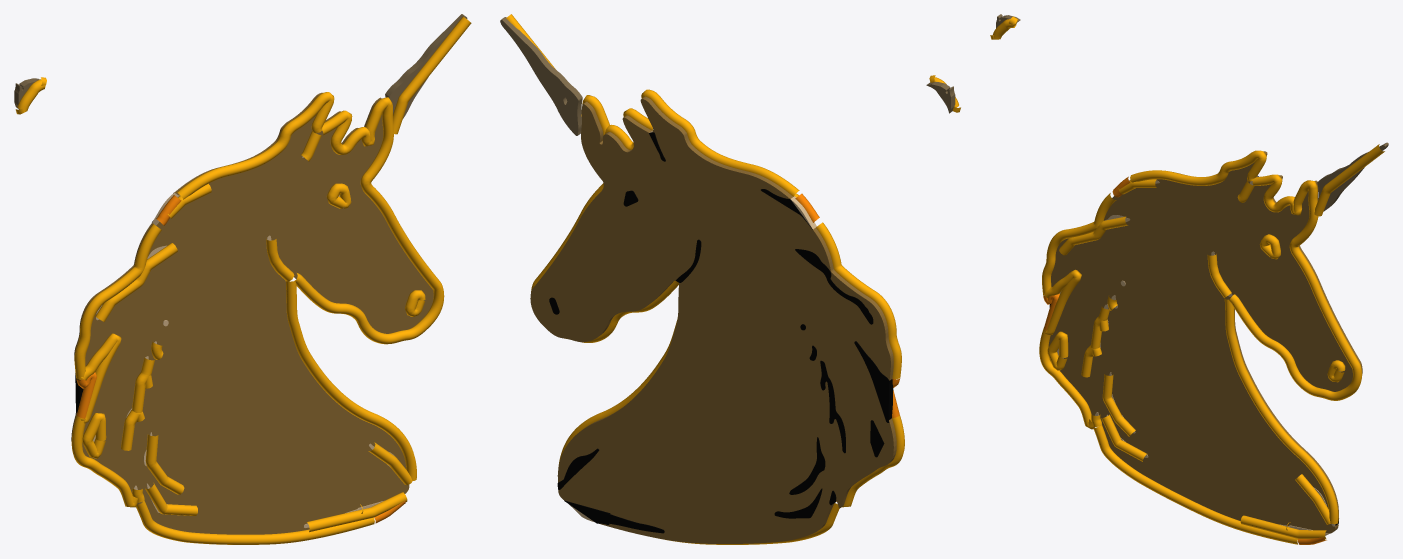
File: unicon.glb
The picture shows the model from 3 angles, left to right: view 1: azimuth 30°, elevation 25°; view 2: azimuth 150°, elevation 25°; view 3: azimuth 330°, elevation 25°; orthographic projection. The views are drawn at different scales.
Size of what is drawn, in the model's own units: 0.7944 by 0.8821 by 0.0287.
